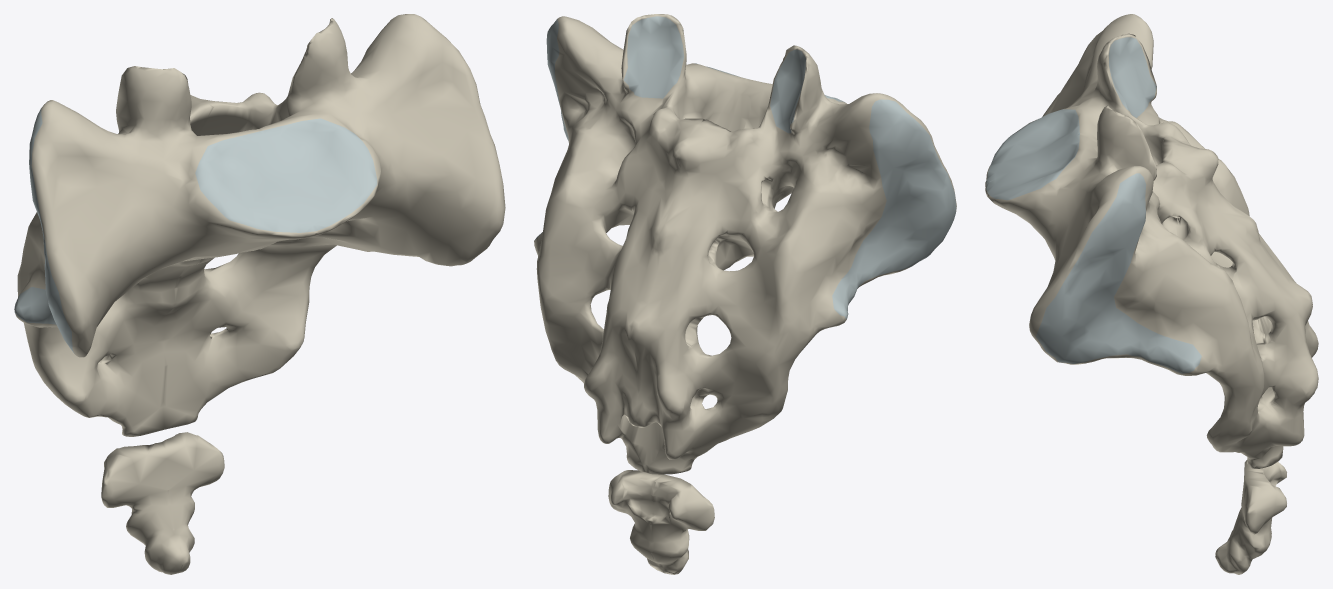
Rendered from detail-skeletal-pelvis.glb.
3 renders of one model, left to right at view 1: azimuth 30°, elevation 25°; view 2: azimuth 150°, elevation 25°; view 3: azimuth 270°, elevation 25°, orthographic. The views are drawn at different scales.
Parts seen in each view (by area): view 1: za-2c9db76f390d9736, za-fc72af7213568880; view 2: za-2c9db76f390d9736, za-fc72af7213568880; view 3: za-2c9db76f390d9736, za-fc72af7213568880.
Part boxes in pixels (box(x1,y1,x2,y2)): za-2c9db76f390d9736: box(14, 14, 505, 436); za-fc72af7213568880: box(101, 432, 224, 574); za-2c9db76f390d9736: box(534, 14, 956, 474); za-fc72af7213568880: box(608, 470, 714, 574); za-2c9db76f390d9736: box(985, 14, 1318, 468); za-fc72af7213568880: box(1215, 460, 1286, 574).
Bounding box in the file's own units: 0.1229 × 0.1505 × 0.0914.
